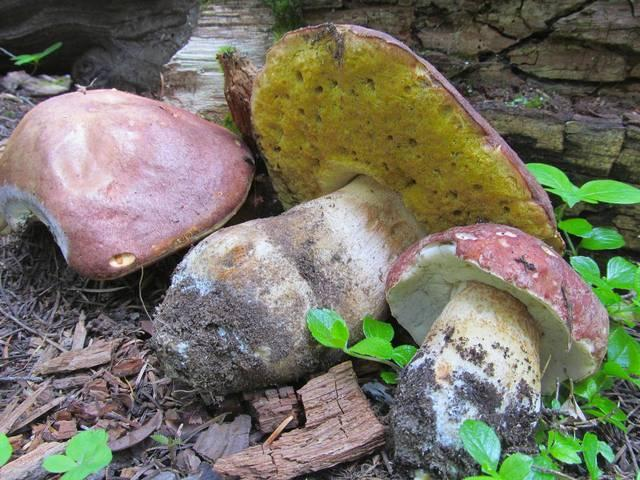edible_mushroom: (150, 24, 571, 405), (382, 221, 609, 479), (0, 85, 256, 282)
